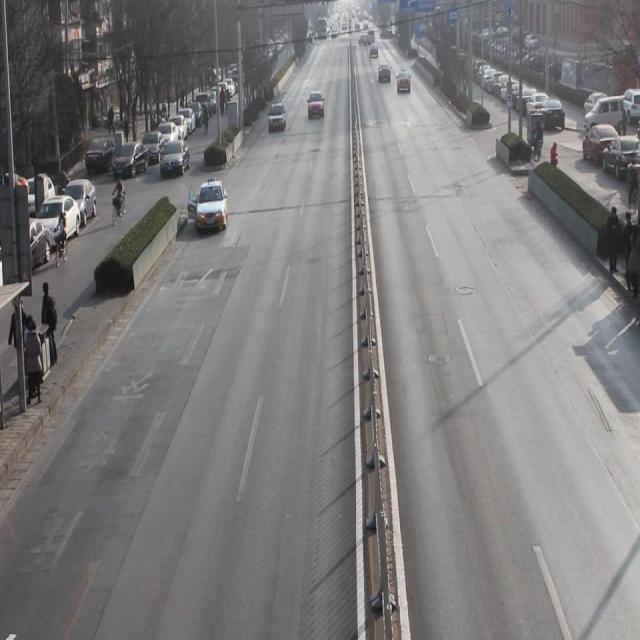car: (192, 177, 230, 234), (267, 96, 286, 134), (307, 87, 326, 122), (376, 57, 392, 86), (396, 68, 413, 93)
